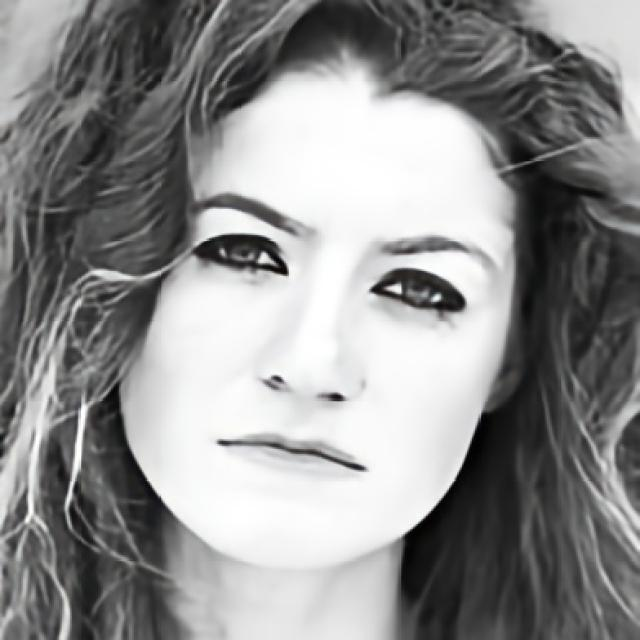neutral: (125, 84, 512, 566)
